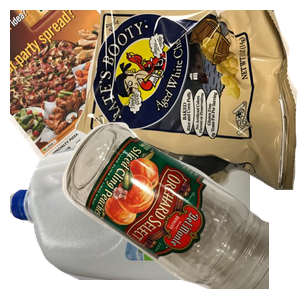glass: (60, 120, 300, 300)
paper: (10, 10, 250, 190)
plastic: (10, 120, 250, 300)
trash: (75, 10, 300, 190)
